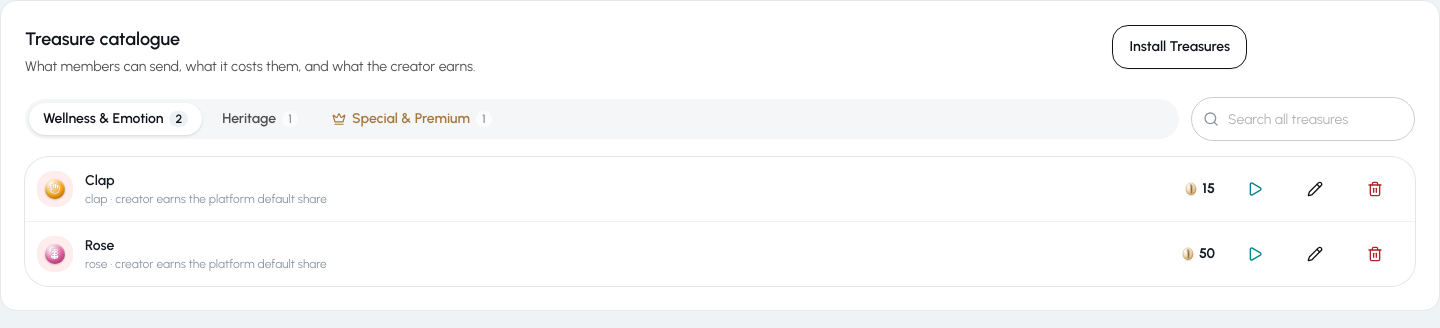
Test: the catalogue › lists the treasures in a tab per set, with how many each holds
Expected: the text "Rose" is shown, [85,237,114,254]
Expected: the tab "Special & Premium 1" is shown, [318,103,506,135]
Click the tab "Heritage 1" at (260, 119), box [208,103,312,135]
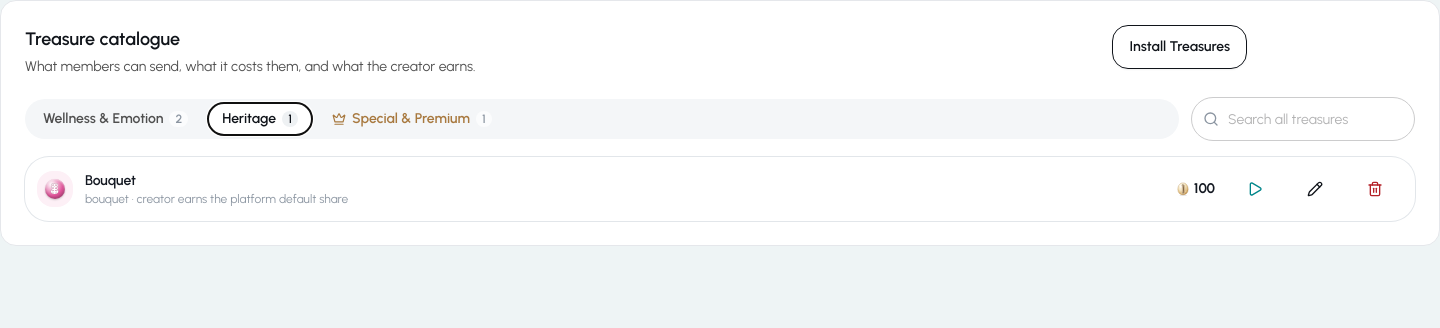
Now the text "Bouquet" is shown, box [85,172,136,189]
Now the text "Rose" is gone
